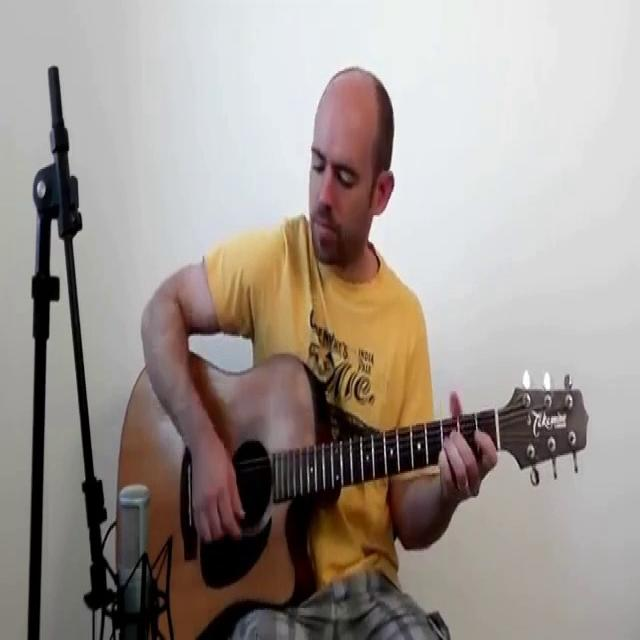Guitar: (109, 342, 604, 640)
